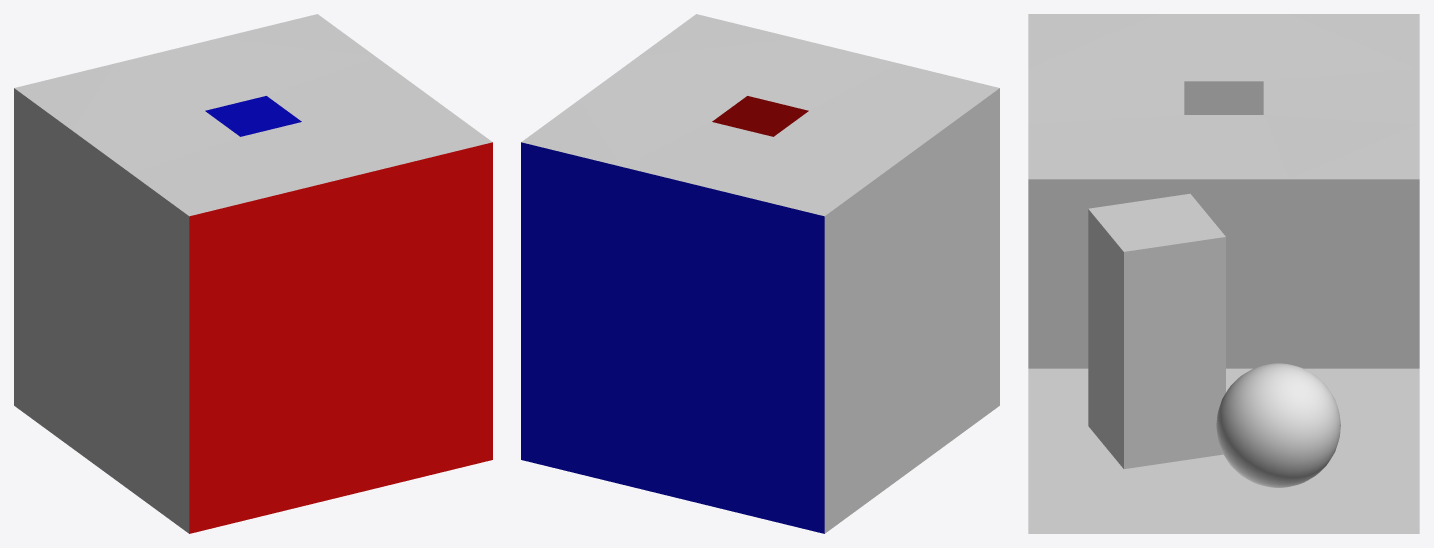
Rendered from cornell-1.glb.
The picture shows the model from 3 angles, left to right: view 1: azimuth 30°, elevation 25°; view 2: azimuth 150°, elevation 25°; view 3: azimuth 270°, elevation 25°; orthographic projection. The views are drawn at different scales.
Parts seen in each view (by area): view 1: Cube; view 2: Cube; view 3: Cube, Cube.001, Sphere.
Boxes of the visible parts, box(x1,y1,x2,y2) form: Cube: box(14, 14, 492, 533); Cube: box(521, 14, 999, 533); Cube: box(1028, 14, 1419, 533); Cube.001: box(1088, 193, 1225, 468); Sphere: box(1216, 363, 1340, 487).
Size of the model in its own units: 10 by 10.02 by 10.
